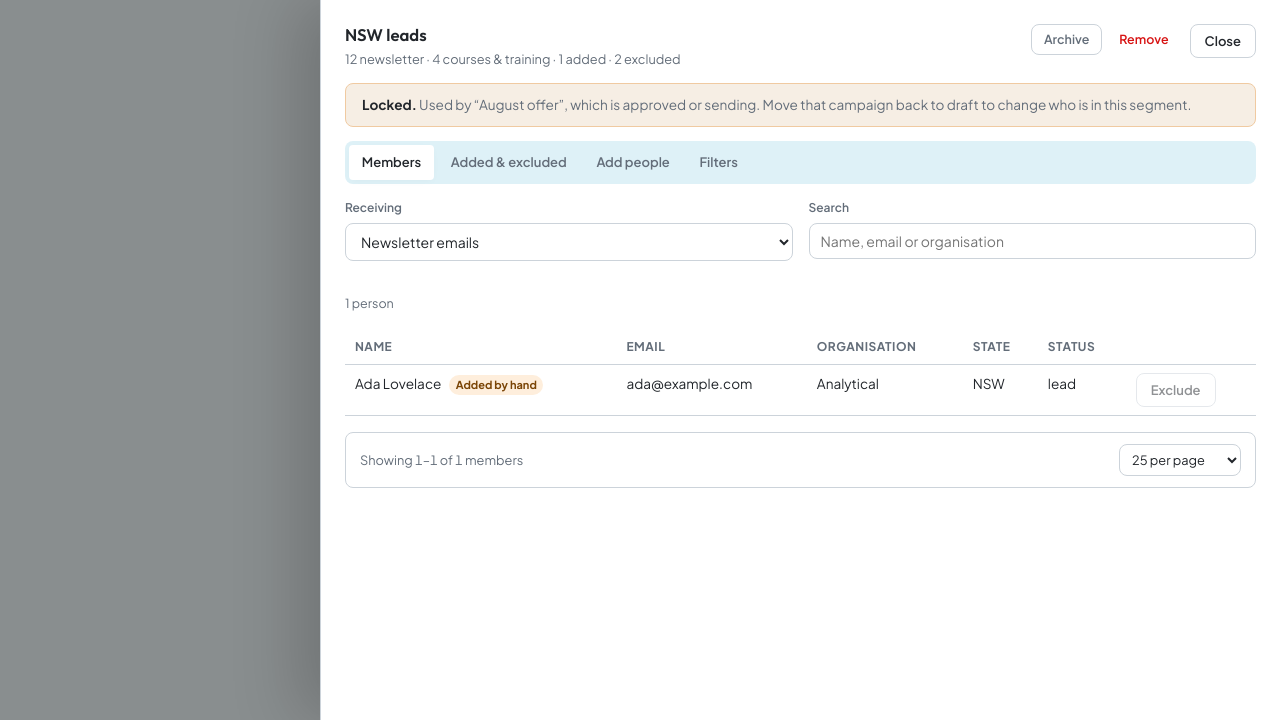
Test: SegmentDrawer › locks every change while a campaign using it is approved or sending
Expected: the message with test id "segment-locked" shows "“August offer”", [474,96,564,114]
Expected: the button with test id "exclude-c1" is disabled, [1136,373,1216,407]
Click the tab with test id "segment-tab-filters".
click(719, 163)  # box [687,145,751,180]
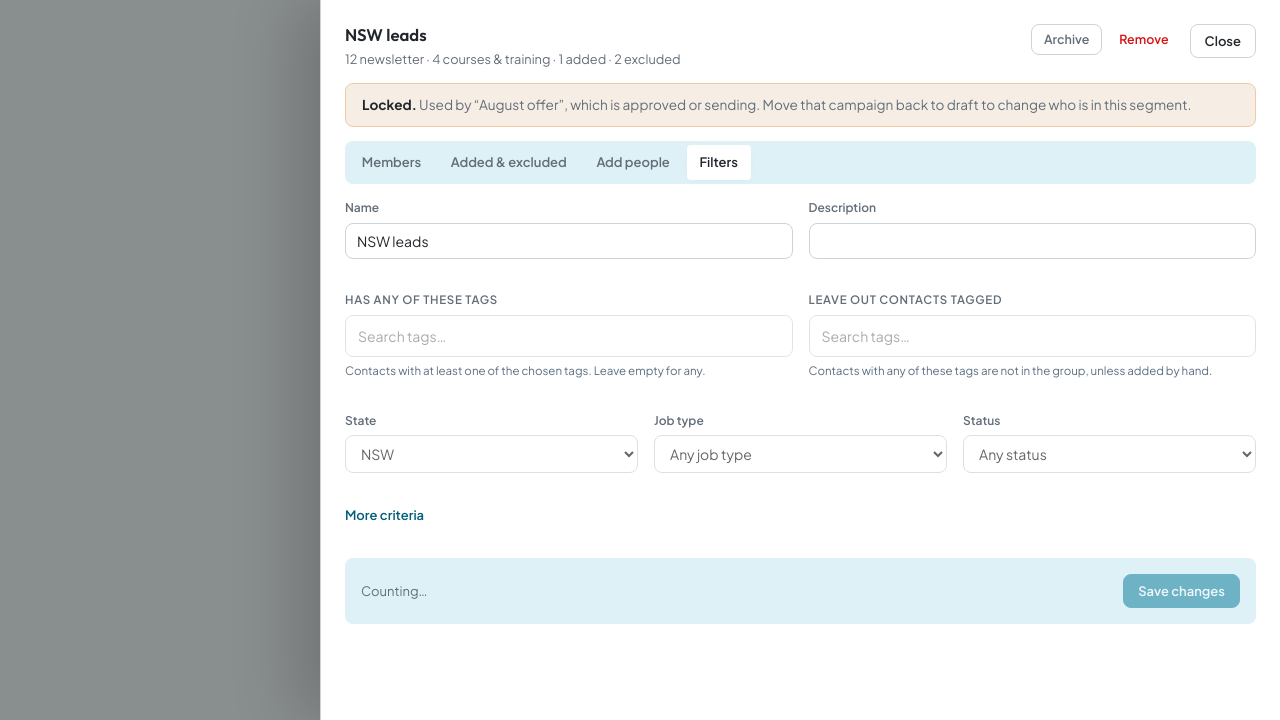
Expected: the button with test id "save-segment" is disabled, [1123,574,1240,608]
